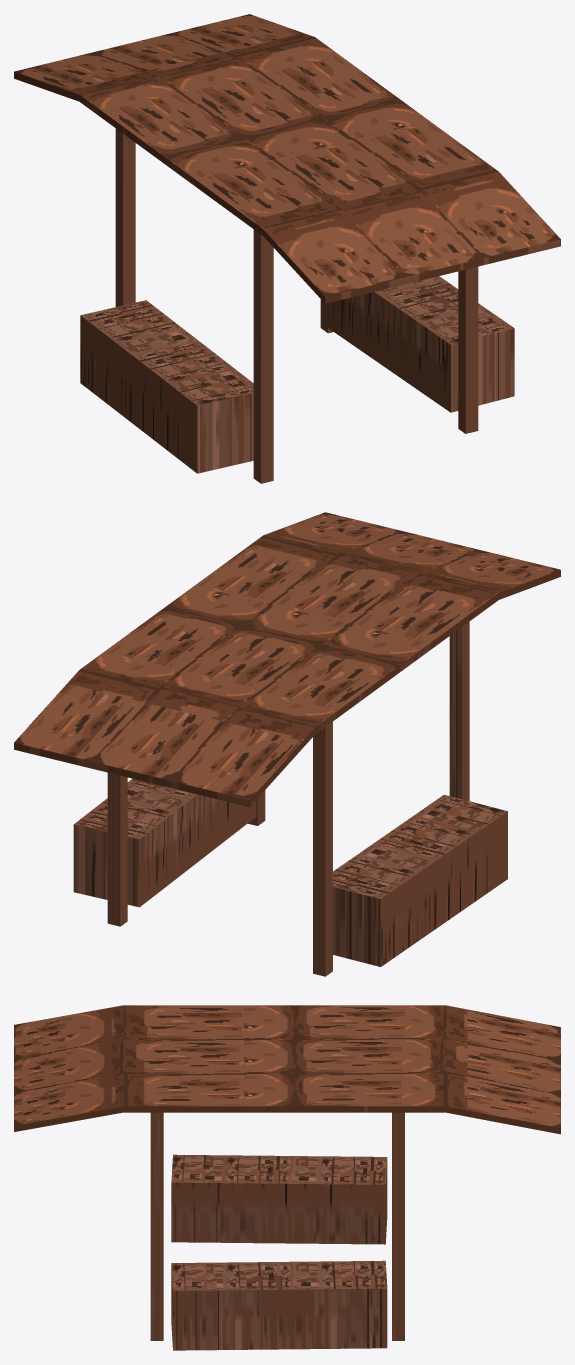
The model's file is barraca2.fbx.
3 renders of one model, top to bottom at view 1: azimuth 30°, elevation 25°; view 2: azimuth 150°, elevation 25°; view 3: azimuth 270°, elevation 25°, orthographic. The views are drawn at different scales.
Parts seen in each view (by area): view 1: Cube.004; view 2: Cube.004; view 3: Cube.004.
Part boxes in pixels (x1,y1,x2,y2): Cube.004: [14, 14, 560, 483]; Cube.004: [14, 512, 560, 976]; Cube.004: [14, 1005, 560, 1350].
Size of the model in its own units: 423 by 343 by 719.
Materials: 2 (2 with a texture image).
